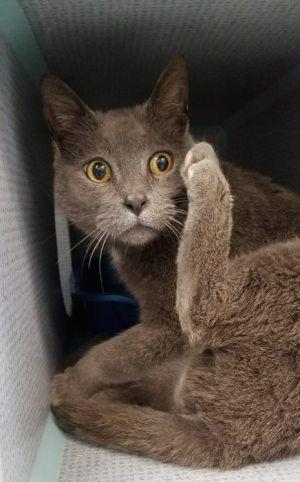rblue: (31, 43, 221, 270)
